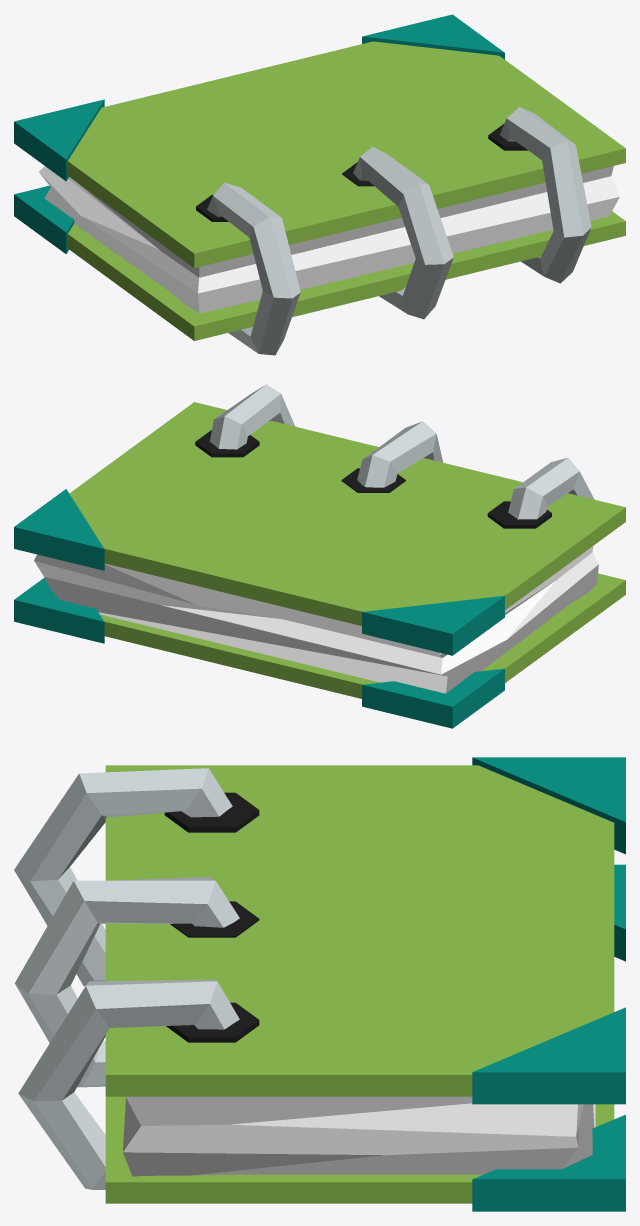
The model's file is notebook.glb.
3 views of the same model, one above another, from view 1: azimuth 30°, elevation 25°; view 2: azimuth 150°, elevation 25°; view 3: azimuth 270°, elevation 25° (orthographic). The views are drawn at different scales.
Parts seen in each view (by area): view 1: group1733019088, group387823543, group1559348394, group81174589, group382559760, group673990593, group2126751848, group1445775804, group1952965966; view 2: group1733019088, group387823543, group1559348394, group2126751848, group1952965966, group1445775804, group2147022704, group81174589, group673990593, group382559760, group1912266361, group2119304424 (+1 smaller); view 3: group1733019088, group387823543, group673990593, group81174589, group382559760, group1559348394, group1445775804, group2147022704, group2126751848, group1912266361, group2119304424, group2001397548 (+1 smaller).
Boxes of the visible parts, x1,y1,x2,y2 form: group1733019088: (67, 41, 625, 268); group387823543: (39, 166, 619, 313); group1559348394: (67, 211, 625, 340); group81174589: (353, 147, 453, 319); group382559760: (207, 182, 300, 355); group673990593: (499, 107, 591, 283); group2126751848: (14, 99, 104, 181); group1445775804: (362, 14, 504, 59); group1952965966: (14, 185, 74, 253); group1733019088: (69, 402, 625, 625); group387823543: (34, 546, 598, 693); group1559348394: (100, 573, 625, 698); group2126751848: (362, 595, 504, 655); group1952965966: (362, 668, 504, 728); group1445775804: (14, 489, 104, 570); group2147022704: (14, 577, 104, 643); group81174589: (357, 421, 443, 487); group673990593: (210, 384, 295, 449); group382559760: (508, 457, 594, 519); group1912266361: (487, 501, 551, 528); group2119304424: (195, 430, 259, 457); group1733019088: (105, 765, 614, 1096); group387823543: (123, 1096, 595, 1176); group673990593: (18, 980, 239, 1189); group81174589: (15, 876, 239, 1087); group382559760: (14, 768, 232, 986); group1559348394: (105, 1096, 614, 1203); group1445775804: (472, 1007, 625, 1104); group2147022704: (472, 1114, 625, 1211); group2126751848: (472, 757, 625, 854); group1912266361: (164, 792, 259, 832); group2119304424: (166, 1002, 259, 1042); group2001397548: (170, 901, 259, 937).
Size of the model in its own units: 0.63 by 0.1991 by 0.5175.
